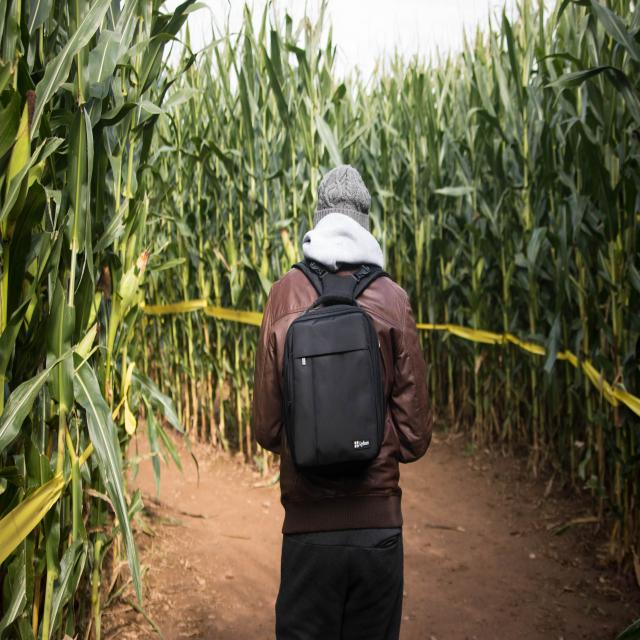backpack: (288, 252, 389, 471)
